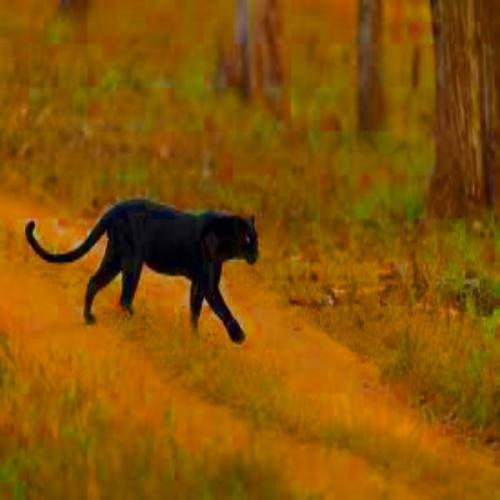panther-endangered: (24, 196, 259, 344)
